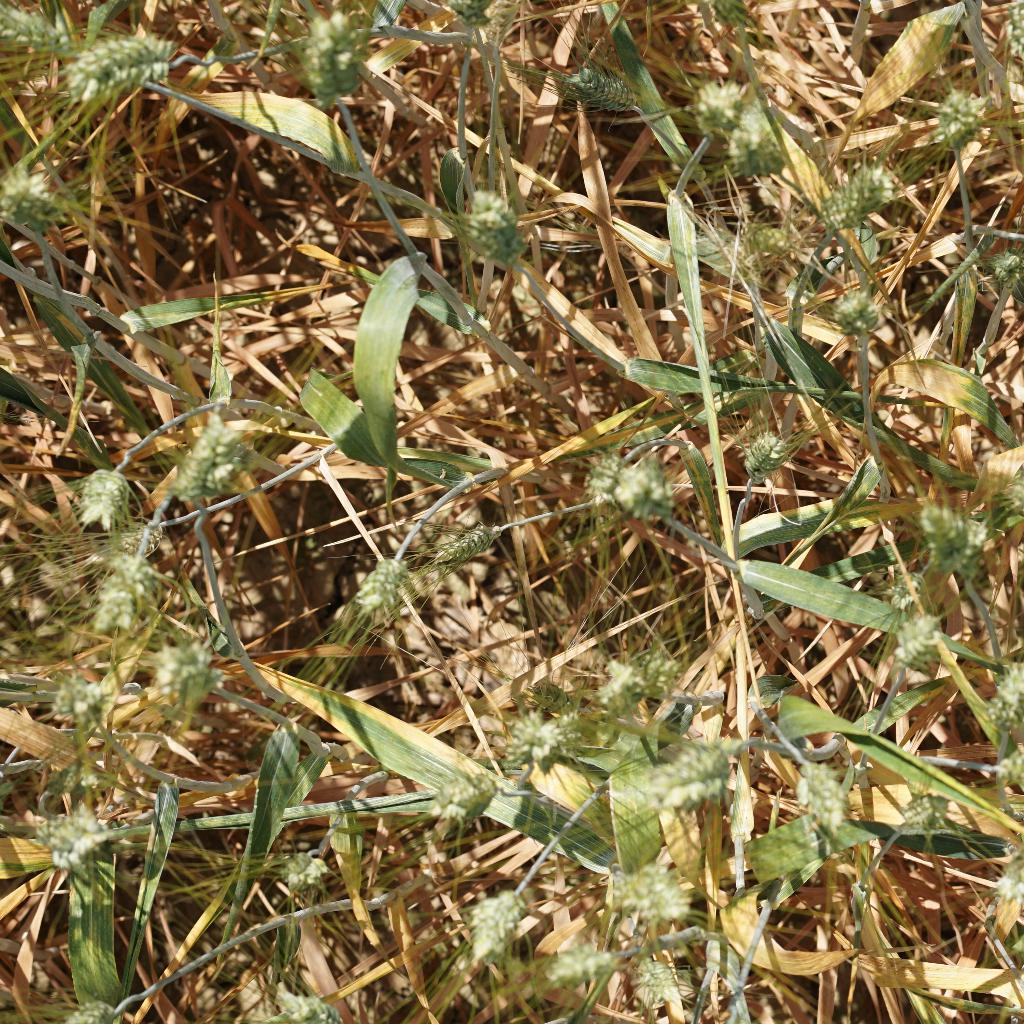0-0: (53, 23, 186, 104), (163, 413, 249, 514), (290, 3, 373, 107), (538, 36, 642, 116), (460, 874, 539, 971), (82, 549, 168, 634), (810, 152, 897, 236), (587, 453, 679, 530), (339, 544, 415, 635), (455, 187, 534, 273), (646, 736, 746, 803), (490, 705, 576, 778), (426, 761, 515, 829), (602, 860, 692, 926), (778, 754, 852, 834), (66, 452, 131, 542), (912, 497, 986, 576), (149, 632, 224, 709), (0, 172, 78, 245), (41, 804, 122, 874), (419, 514, 509, 575), (721, 107, 792, 179), (533, 938, 624, 990), (975, 840, 1021, 936), (273, 836, 337, 904), (38, 662, 111, 721), (0, 0, 74, 56), (813, 276, 882, 336), (616, 944, 686, 1002), (971, 658, 1024, 732), (679, 74, 740, 138), (631, 643, 697, 702), (597, 645, 651, 712), (888, 787, 957, 839), (798, 44, 868, 93), (263, 984, 348, 1024), (891, 617, 951, 673), (731, 429, 791, 481), (742, 204, 795, 261), (464, 0, 522, 52), (883, 566, 929, 614)
